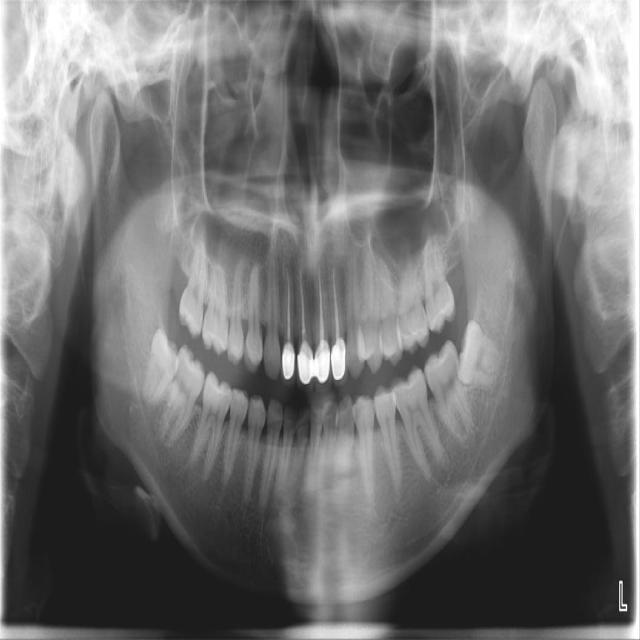Crown: (296, 341, 332, 393), (330, 337, 348, 387), (281, 344, 296, 388)
Root Canal Treatment: (318, 272, 324, 336), (335, 270, 339, 335), (301, 275, 305, 339), (287, 275, 291, 330)
impacted tooth: (461, 320, 505, 385), (142, 329, 179, 401)
